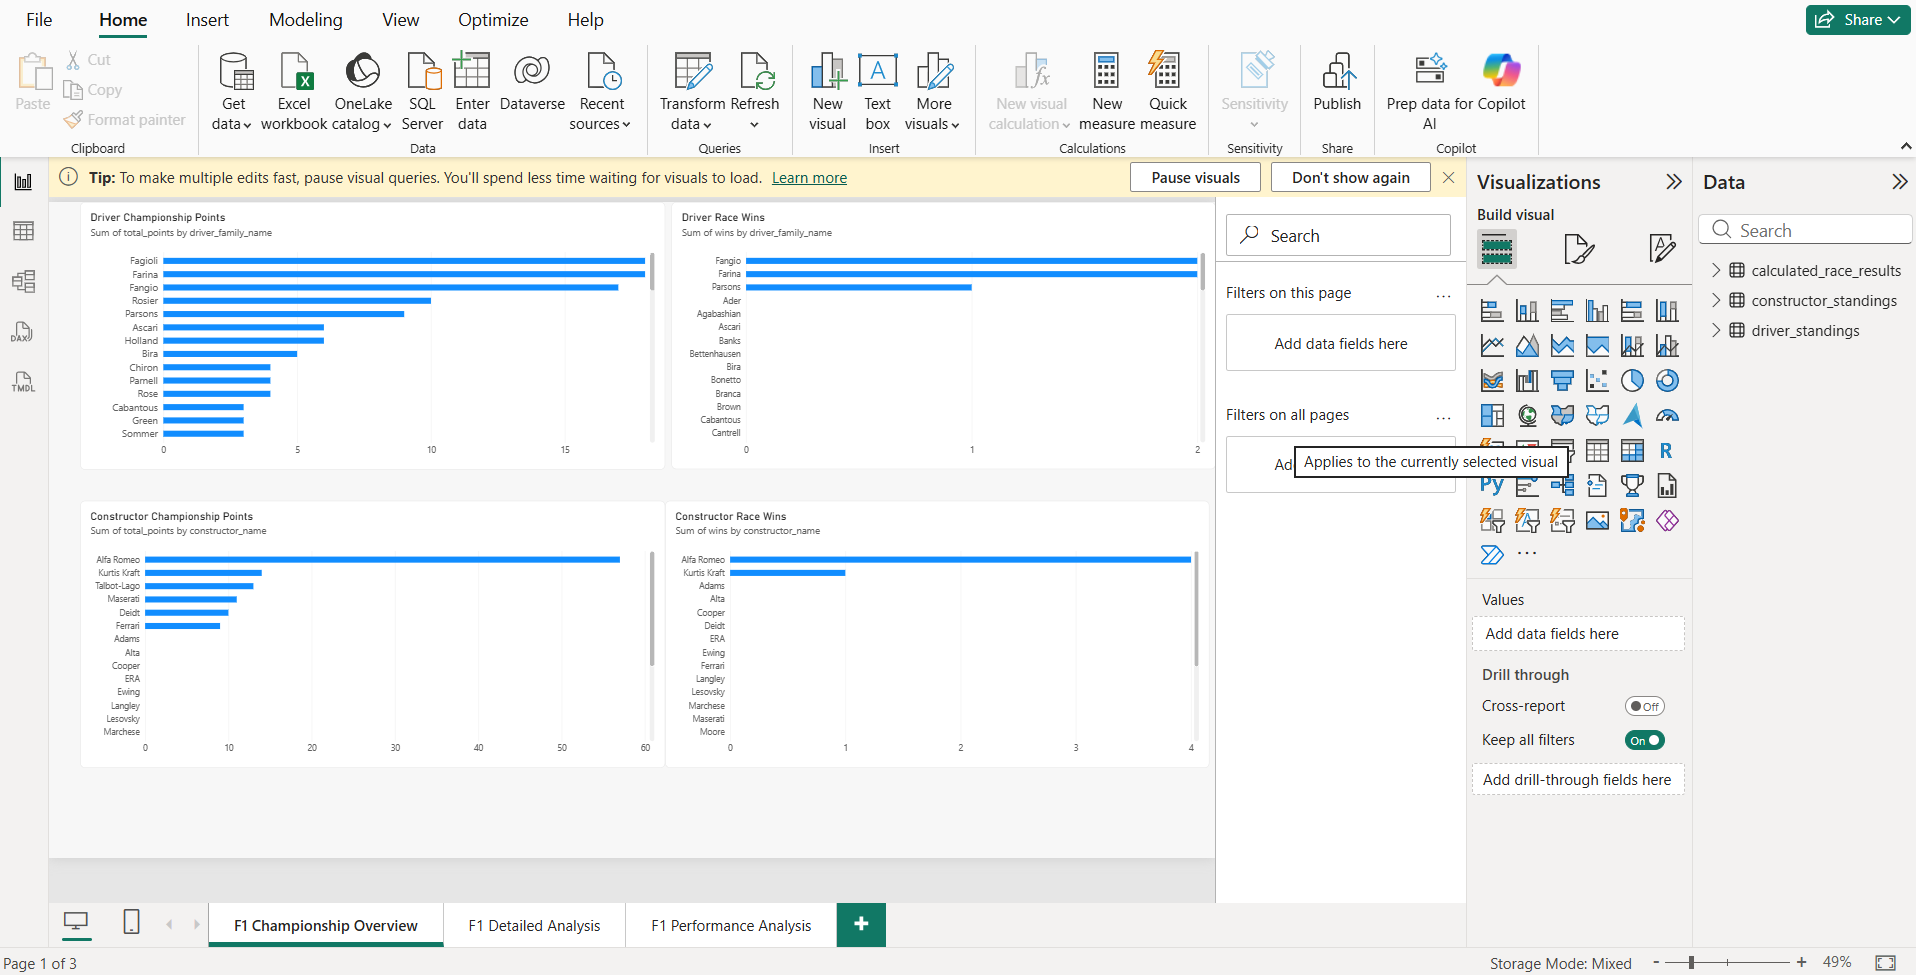

This screenshot's page, from the dashboard's own definition file:
{"tool":"powerbi","page":{"name":"F1 Championship Overview","canvas":[1920,1080],"ordinal":0},"visuals":[{"type":"clusteredBarChart","title":"Driver Championship Points","fields":{"Category":["driver_standings.driver_family_name"],"Y":["Sum(driver_standings.total_points)"]},"box":[51.5,0,963.3,440.5],"z":0},{"type":"clusteredBarChart","title":"Constructor Championship Points","fields":{"Category":["constructor_standings.constructor_name"],"Y":["Sum(constructor_standings.total_points)"]},"box":[51.5,491.9,963,440],"z":1},{"type":"clusteredBarChart","title":"Driver Race Wins","fields":{"Category":["driver_standings.driver_family_name"],"Y":["Sum(driver_standings.wins)"]},"box":[1025,0,896,440],"z":2},{"type":"clusteredBarChart","title":"Constructor Race Wins","fields":{"Category":["constructor_standings.constructor_name"],"Y":["Sum(constructor_standings.wins)"]},"box":[1014.8,491.9,896,440],"z":3}]}

Visuals, with their boxes on the page's 1920x1080 design canvas (x1, y1, x2, y2). These are canvas units, not pixel positions in the 1916x975 screenshot, which may show the page scaled, cropped or inside an application window:
"Driver Championship Points" clusteredBarChart: rect(52, 0, 1015, 440)
"Constructor Championship Points" clusteredBarChart: rect(52, 492, 1014, 932)
"Driver Race Wins" clusteredBarChart: rect(1025, 0, 1921, 440)
"Constructor Race Wins" clusteredBarChart: rect(1015, 492, 1911, 932)
